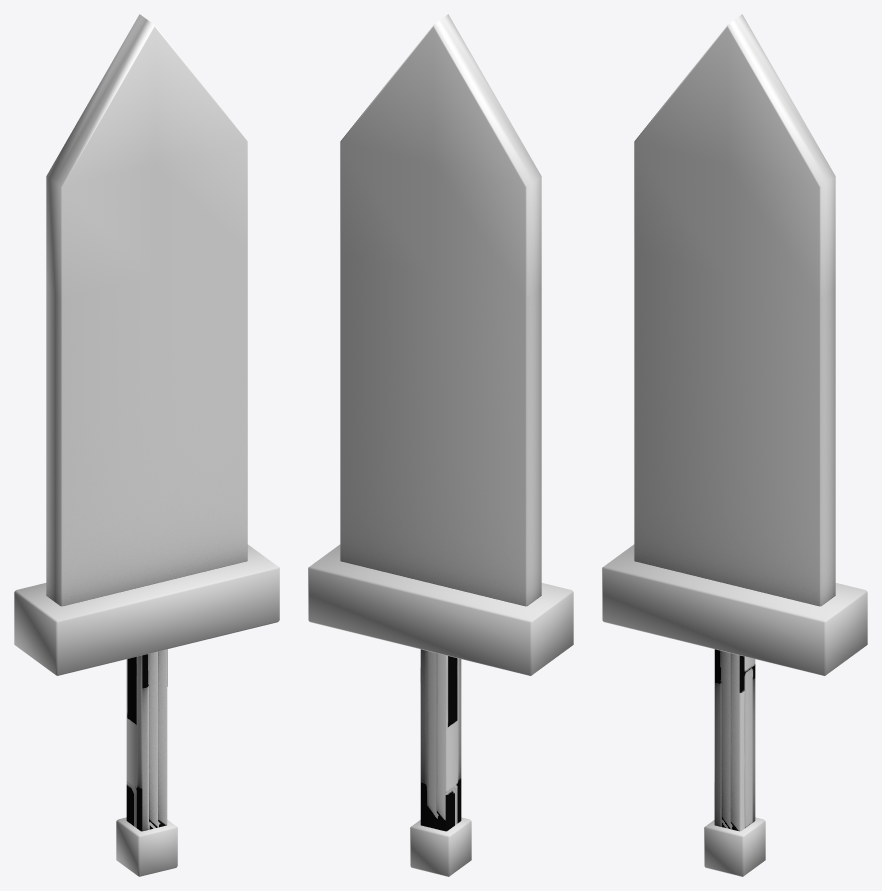
File: Sword.fbx
3 renders of one model, left to right at view 1: azimuth 30°, elevation 25°; view 2: azimuth 150°, elevation 25°; view 3: azimuth 330°, elevation 25°, orthographic.
Visible parts, largest first — view 1: Sword; view 2: Sword; view 3: Sword.
Boxes of the visible parts, <box> form: Sword: <box>14,14,279,876</box>; Sword: <box>308,14,573,876</box>; Sword: <box>602,14,867,876</box>.
Bounding box in the file's own units: 53.76 × 194 × 17.92.
Materials: 3 (2 with a texture image).
